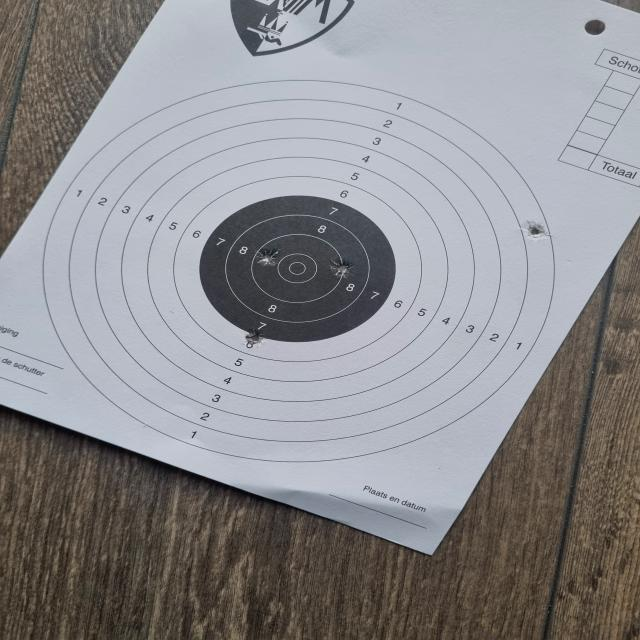1: (524, 221, 550, 241)
7: (244, 328, 267, 346)
9: (255, 247, 280, 267), (328, 260, 355, 278)
Target: (48, 80, 556, 468)
black_contour: (198, 194, 398, 344)
